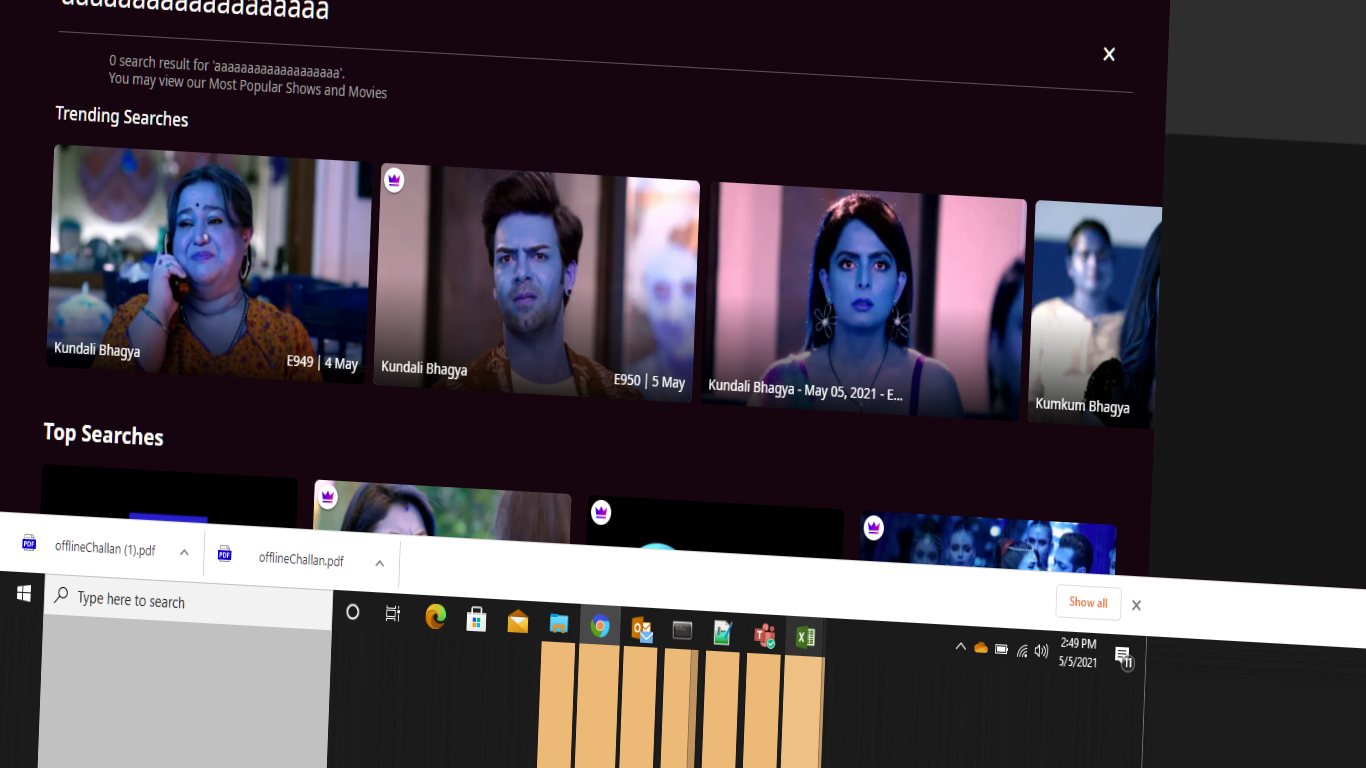noresultsfound: (100, 45, 394, 115)
searchtextbox: (60, 1, 1157, 55)
